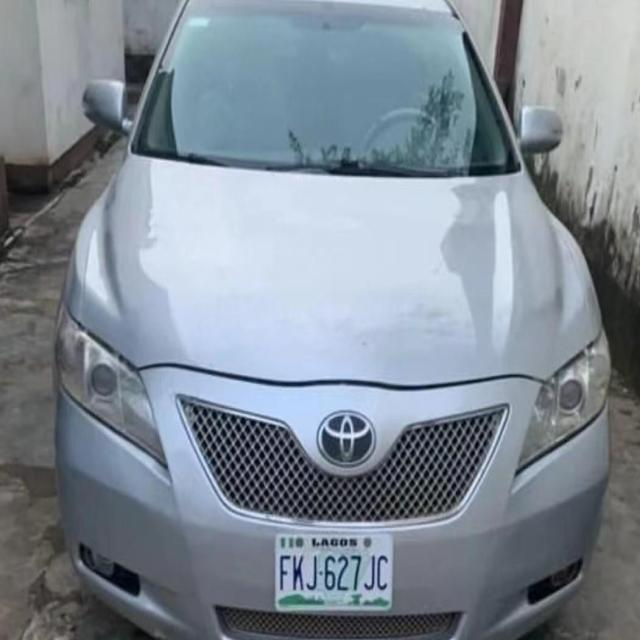Nigerian License Plate - vdataset benjamin-daria: (273, 526, 396, 620)
